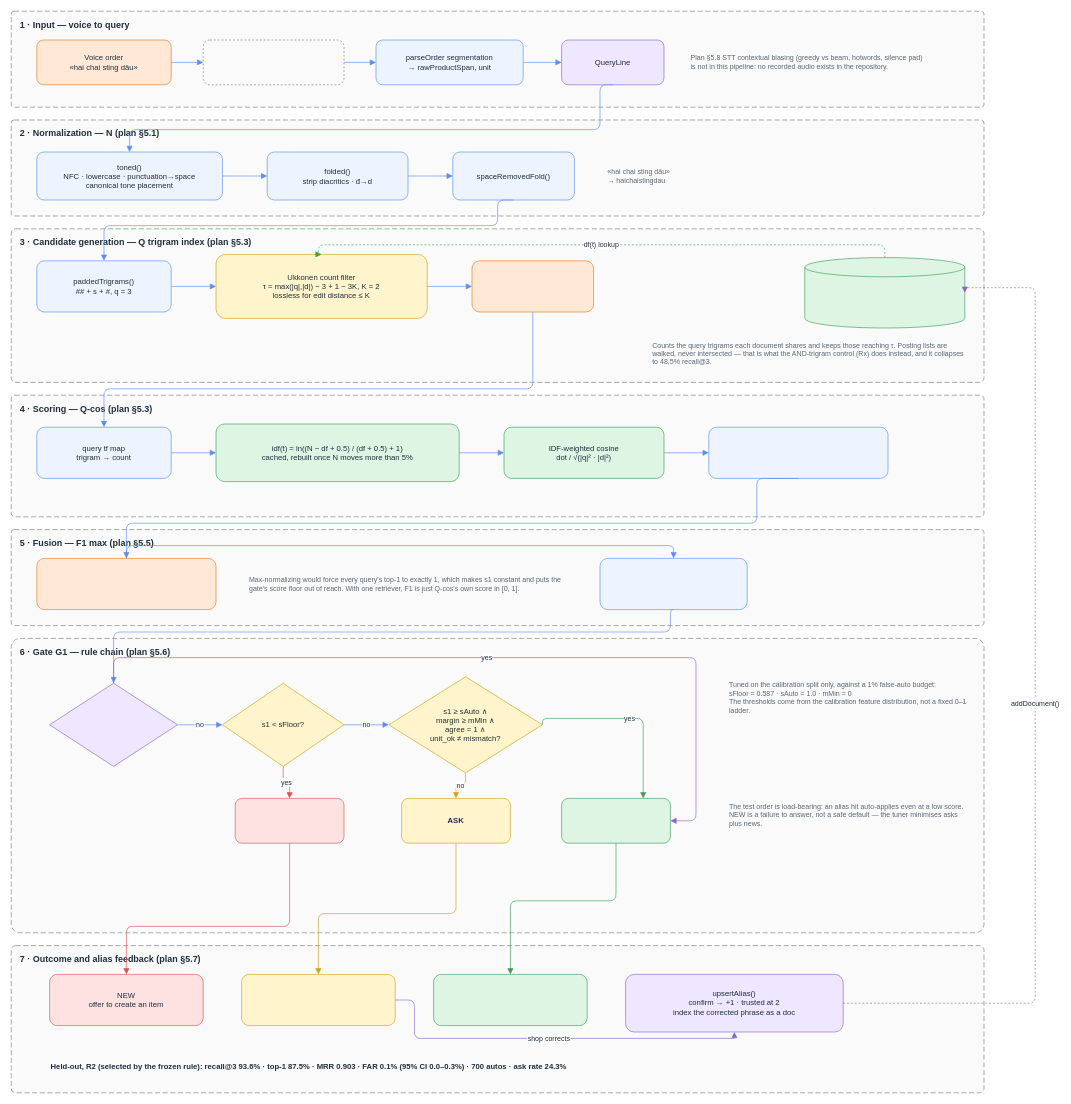
This 1071x1104 diagram has some shape labels left out. Here are the shapes that lost their labels. From the top down, the centre of each, then its label:
At (x=273, y=62): "ASR transcript (no token confidence exposed)".
At (x=532, y=286): "candidate docIds".
At (x=884, y=292): "Trigram index t → docId[] · df(t) one doc per (productId, string)".
At (x=798, y=452): "best score per product tie-break: score desc, productId asc".
At (x=126, y=584): "F1 max raw score, no max-normalize".
At (x=673, y=584): "topK = 5 candidates + GateFeatures".
At (x=113, y=724): "trusted alias matches top-1?".
At (x=289, y=820): "NEW".
At (x=615, y=820): "AUTO".
At (x=318, y=1000): "ASK show topK, user picks".
At (x=510, y=1000): "AUTO write the product into the order".
